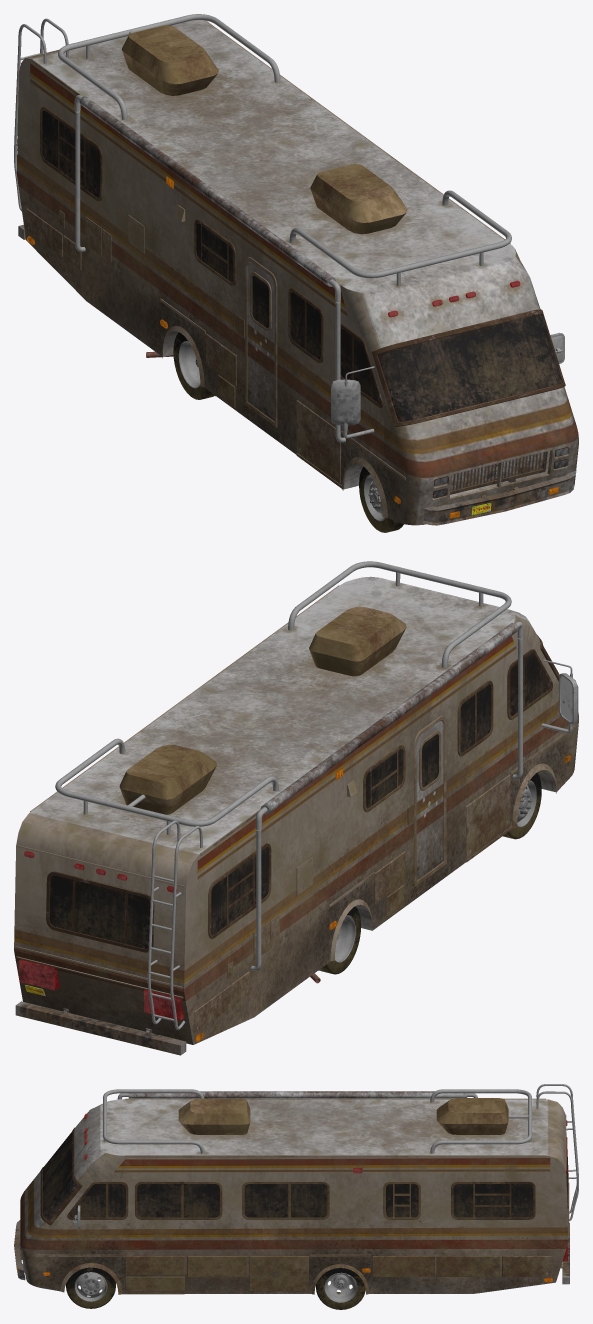
File: rv_bounder.gltf
The picture shows the model from 3 angles, top to bottom: view 1: azimuth 30°, elevation 25°; view 2: azimuth 150°, elevation 25°; view 3: azimuth 270°, elevation 25°; orthographic projection. The views are drawn at different scales.
Parts seen in each view (by area): view 1: MainBody, Windows, SidePannelDetail, RoofBoxes, ChromePipes, Bumpers+Radiator, Tarp, FrontWheels, Mirrors, RearLights; view 2: MainBody, SidePannelDetail, Windows, RoofBoxes, ChromePipes, Tarp, Bumpers+Radiator, FrontWheels, RearLights, Mirrors; view 3: MainBody, SidePannelDetail, Windows, RoofBoxes, ChromePipes, FrontWheels, Tarp, Bumpers+Radiator, RearLights.
Part boxes in pixels (left/top/right/bottom): MainBody: left=16, top=20, right=578, bottom=525; Windows: left=42, top=110, right=562, bottom=422; SidePannelDetail: left=26, top=20, right=565, bottom=517; RoofBoxes: left=121, top=25, right=407, bottom=234; ChromePipes: left=14, top=14, right=511, bottom=442; Bumpers+Radiator: left=18, top=224, right=576, bottom=525; Tarp: left=79, top=96, right=335, bottom=286; FrontWheels: left=173, top=332, right=403, bottom=532; Mirrors: left=331, top=332, right=564, bottom=438; RearLights: left=27, top=176, right=568, bottom=518; MainBody: left=14, top=576, right=578, bottom=1044; SidePannelDetail: left=15, top=585, right=575, bottom=1033; Windows: left=49, top=653, right=550, bottom=948; RoofBoxes: left=119, top=606, right=406, bottom=814; ChromePipes: left=55, top=561, right=523, bottom=1029; Tarp: left=260, top=623, right=518, bottom=814; Bumpers+Radiator: left=15, top=1001, right=186, bottom=1055; FrontWheels: left=318, top=773, right=541, bottom=974; RearLights: left=19, top=755, right=571, bottom=1041; Mirrors: left=541, top=659, right=578, bottom=733; MainBody: left=20, top=1099, right=568, bottom=1293; SidePannelDetail: left=36, top=1098, right=569, bottom=1294; Windows: left=42, top=1132, right=567, bottom=1220; RoofBoxes: left=178, top=1098, right=508, bottom=1134; ChromePipes: left=103, top=1084, right=578, bottom=1220; FrontWheels: left=66, top=1267, right=365, bottom=1309; Tarp: left=128, top=1091, right=467, bottom=1098; Bumpers+Radiator: left=14, top=1220, right=569, bottom=1284; RearLights: left=16, top=1113, right=568, bottom=1282.
Bounding box in the file's own units: 2.39 × 2.62 × 7.47.
Materials: 13 (13 with a texture image).
